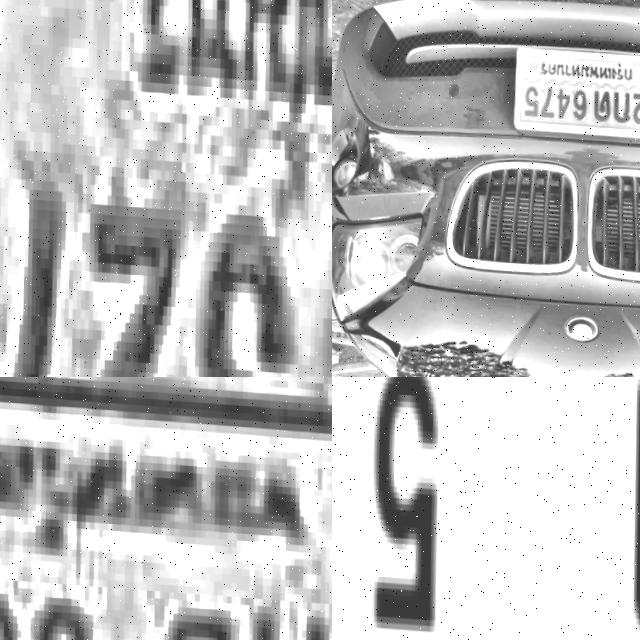license-plate: (0, 0, 332, 377), (0, 377, 332, 640), (332, 377, 640, 640), (508, 41, 640, 144)
